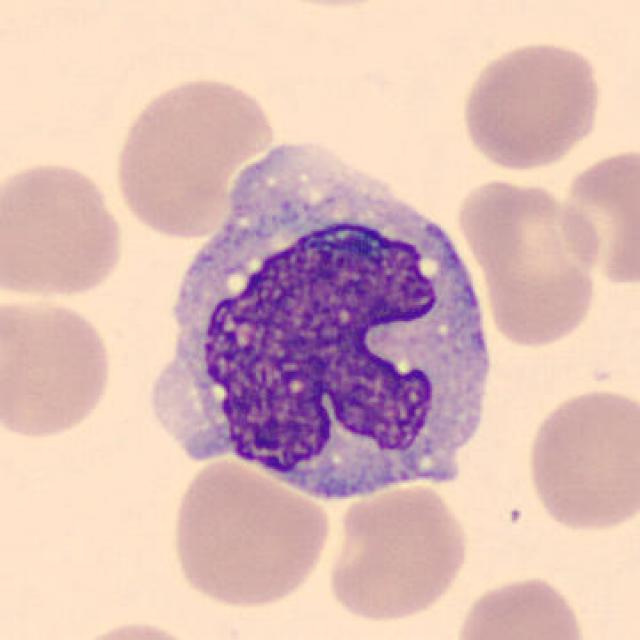Monocyte: (142, 128, 507, 524)
RBC: (109, 70, 279, 240), (165, 455, 332, 612), (457, 173, 604, 349), (323, 478, 473, 626), (457, 37, 606, 173), (0, 155, 130, 303), (0, 290, 117, 444), (523, 383, 638, 536), (556, 143, 640, 289), (450, 571, 590, 640), (60, 615, 212, 640)
